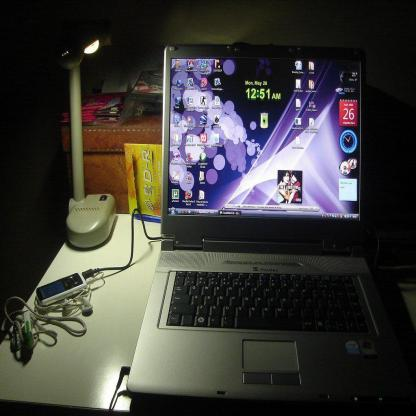board: (126, 45, 400, 416)
